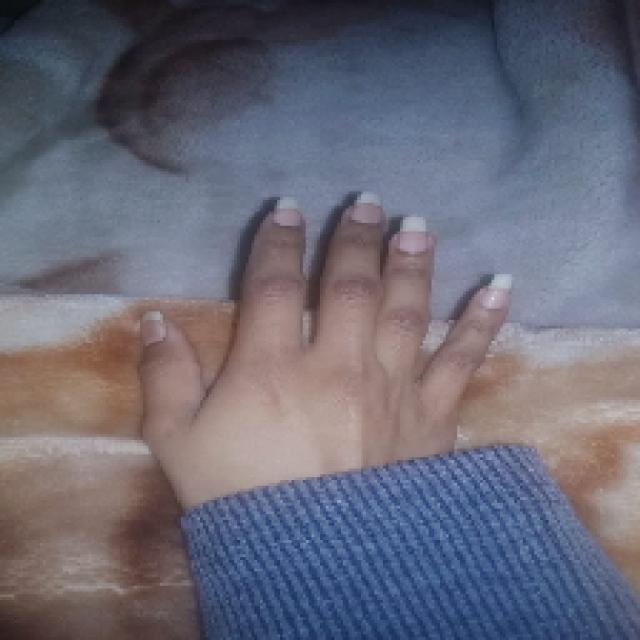Nail: (396, 218, 429, 257), (481, 274, 512, 309), (350, 194, 382, 224), (274, 198, 302, 228), (142, 311, 166, 346)
